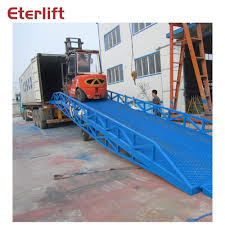Pallet Jack: (62, 36, 108, 102)
Yard Ramp: (48, 89, 211, 198)
